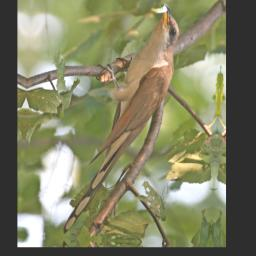Cuckoo: (61, 0, 182, 243)
